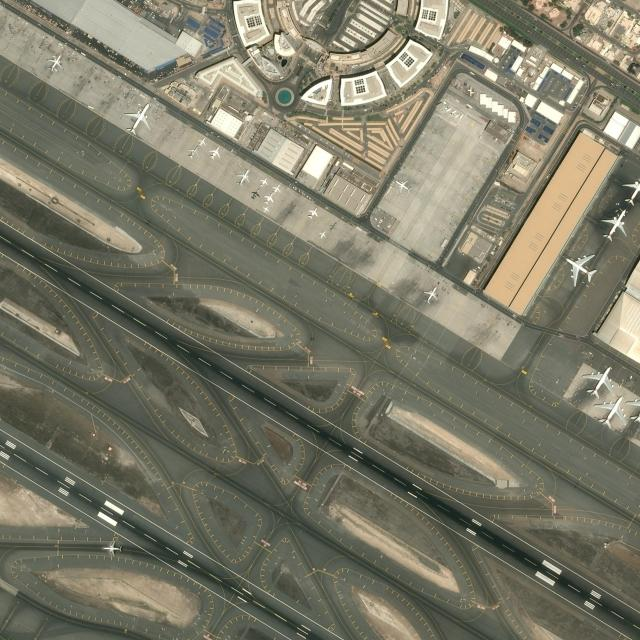1: (622, 177, 640, 205), (625, 393, 640, 424)
aircraft: (595, 393, 628, 429), (564, 252, 598, 286), (582, 364, 616, 397), (124, 101, 152, 135), (600, 206, 628, 240), (102, 538, 122, 558), (394, 178, 412, 194), (422, 286, 438, 304), (47, 54, 62, 72), (236, 168, 251, 186), (209, 144, 221, 160), (262, 192, 276, 204), (187, 146, 199, 158), (308, 206, 318, 219), (196, 136, 207, 146), (258, 176, 268, 187), (272, 182, 281, 194), (251, 188, 259, 199), (329, 222, 337, 231), (318, 231, 326, 239), (262, 205, 270, 213)
